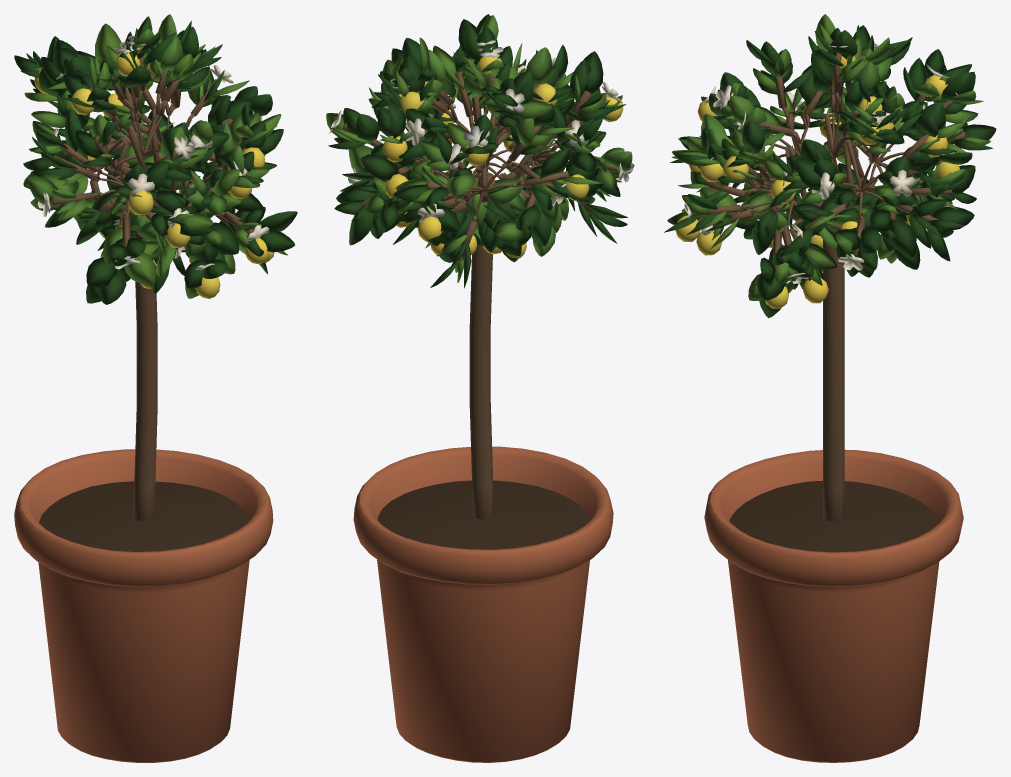
Rendered from pot_citrus.glb.
3 views of the same model, side by side, from view 1: azimuth 30°, elevation 25°; view 2: azimuth 150°, elevation 25°; view 3: azimuth 270°, elevation 25° (orthographic).
Visible parts, largest first — view 1: Sammel Putz, Sammel Pflanze, Sammel Holz; view 2: Sammel Putz, Sammel Pflanze, Sammel Holz; view 3: Sammel Putz, Sammel Pflanze, Sammel Holz.
Part boxes in pixels (left/top/right/bottom): Sammel Putz: left=14, top=449, right=273, bottom=762; Sammel Pflanze: left=14, top=14, right=297, bottom=304; Sammel Holz: left=52, top=49, right=253, bottom=521; Sammel Putz: left=353, top=446, right=613, bottom=762; Sammel Pflanze: left=326, top=14, right=634, bottom=288; Sammel Holz: left=342, top=72, right=617, bottom=519; Sammel Putz: left=704, top=449, right=963, bottom=762; Sammel Pflanze: left=664, top=14, right=996, bottom=318; Sammel Holz: left=696, top=52, right=966, bottom=521.
Bounding box in the file's own units: 0.5594 × 1.43 × 0.6146.
